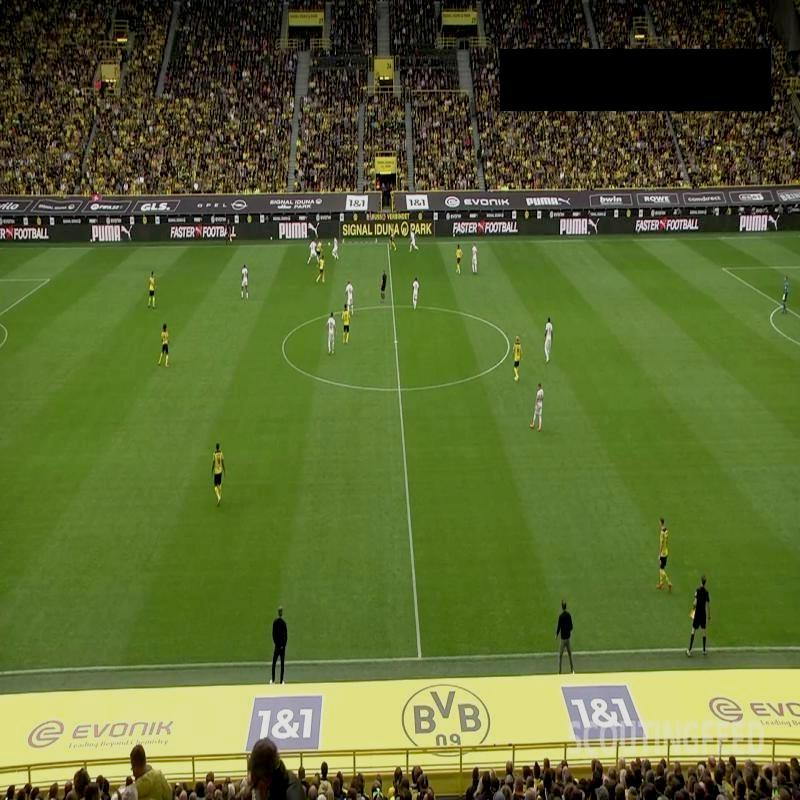10: (776, 300, 790, 314)
13: (383, 235, 397, 249)
14: (386, 298, 400, 314)
15: (392, 381, 406, 396)
16: (412, 648, 428, 666)
9: (714, 263, 733, 277), (42, 272, 55, 286)
c: (274, 338, 292, 355), (501, 336, 516, 349)
